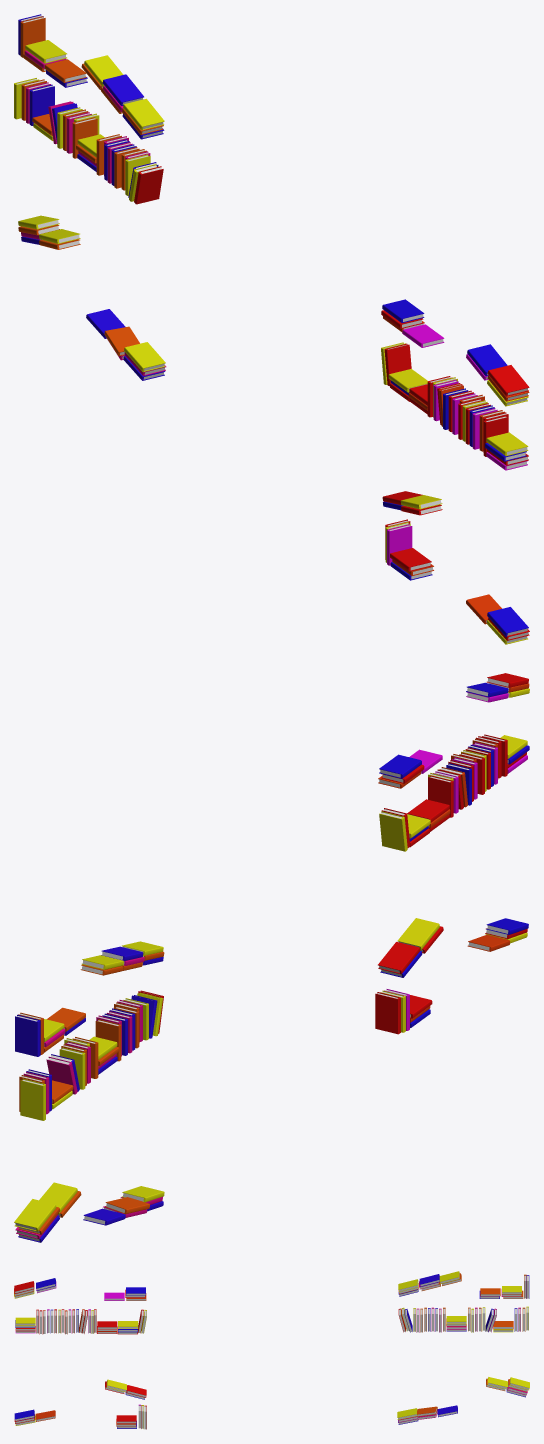
The model's file is Books.fbx.
The picture shows the model from 3 angles, top to bottom: view 1: azimuth 30°, elevation 25°; view 2: azimuth 150°, elevation 25°; view 3: azimuth 270°, elevation 25°; orthographic projection. The views are drawn at different scales.
Visible parts, largest first — view 1: Books; view 2: Books; view 3: Books.
Part boxes in pixels (x1,y1,x2,y2): Books: (14,14,529,644); Books: (14,673,529,1242); Books: (14,1271,529,1429).
Bounding box in the file's own units: 28.51 × 226 × 698.
